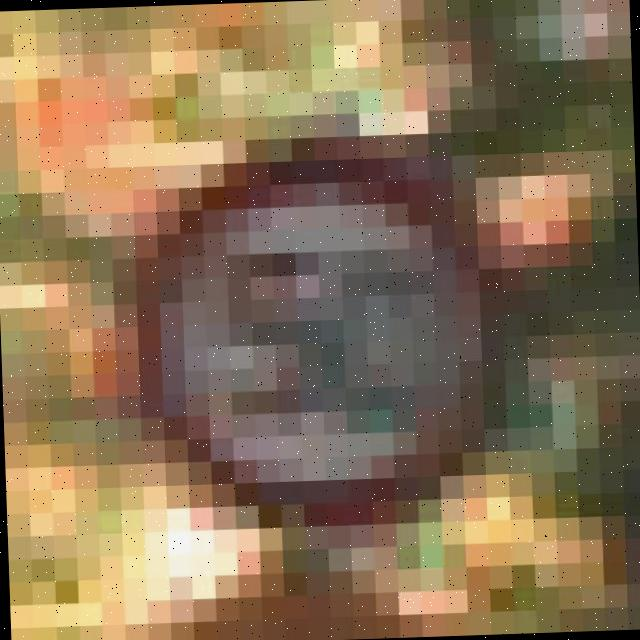Ograniczenie predkosci do 50: (136, 138, 507, 516)
